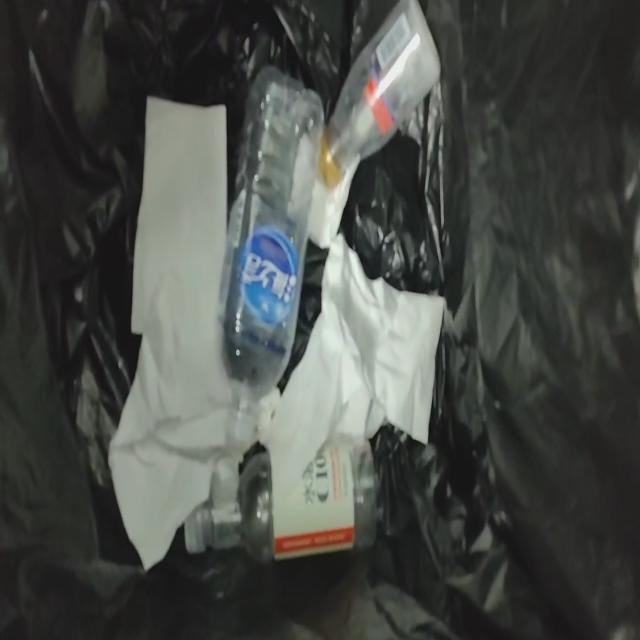bottle: (218, 68, 324, 456), (184, 435, 375, 560), (320, 0, 438, 190)
paper: (110, 99, 236, 569), (261, 236, 444, 504), (287, 126, 359, 250), (210, 461, 238, 524)
